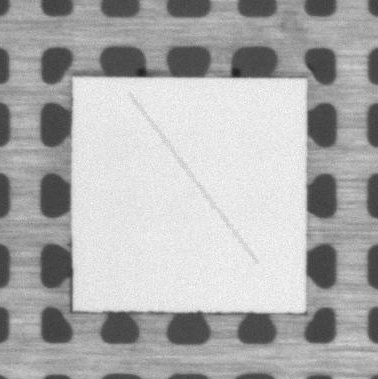DIE_CRACK: (130, 94, 257, 264)
